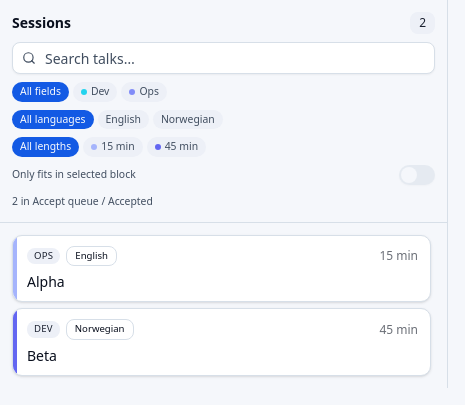
Test: SessionCatalog › filters sessions by length pill
What coordinates should you click on to do the following:
click the button "45 min"
I would click on:
 (176, 147)
Its box is [147,137,206,157].
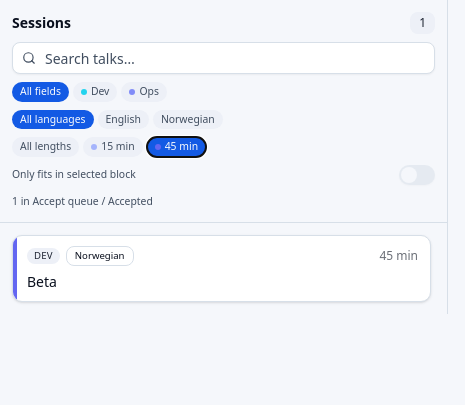
Expected: the heading "Beta" is shown, [27,272,57,291]
Now the heading "Alpha" is gone
